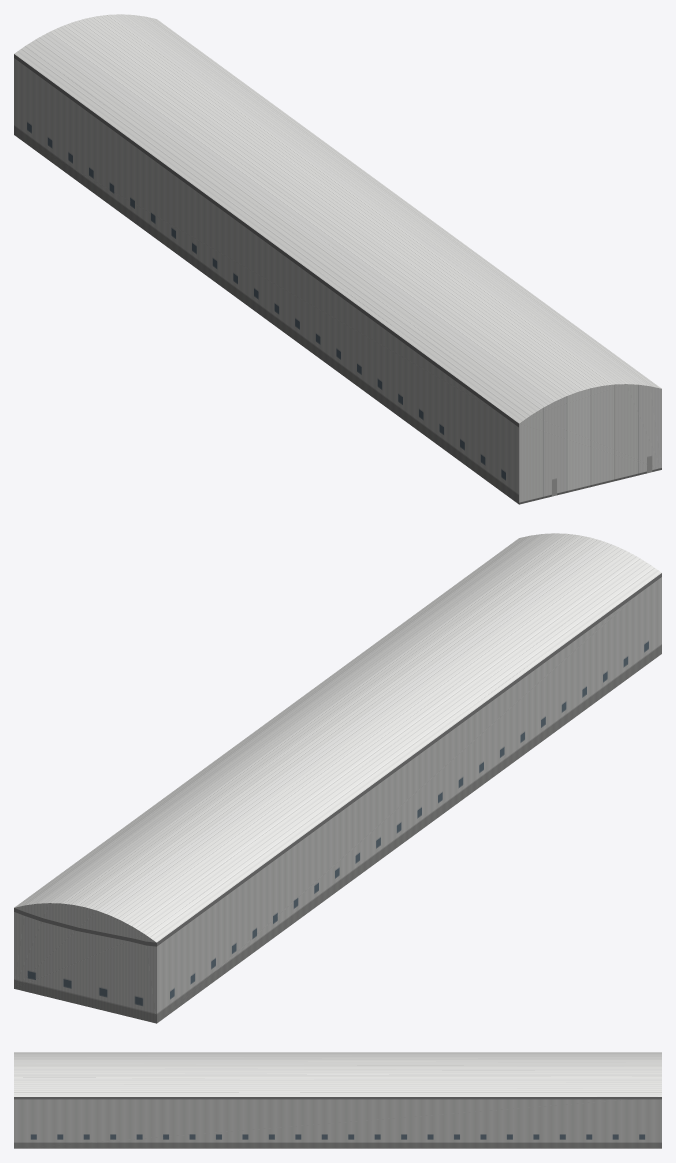
Rendered from khsv_hangar_24x147.glb.
3 views of the same model, one above another, from view 1: azimuth 30°, elevation 25°; view 2: azimuth 150°, elevation 25°; view 3: azimuth 270°, elevation 25° (orthographic). The views are drawn at different scales.
Visible parts, largest first — view 1: khsv_hangar_24x147_hangar_roof, khsv_hangar_24x147_hangar_wall, khsv_hangar_24x147_hangar_door; view 2: khsv_hangar_24x147_hangar_roof, khsv_hangar_24x147_hangar_wall; view 3: khsv_hangar_24x147_hangar_wall, khsv_hangar_24x147_hangar_roof.
Boxes of the visible parts, x1,y1,x2,y2 form: khsv_hangar_24x147_hangar_roof: (14, 14, 661, 423); khsv_hangar_24x147_hangar_wall: (14, 54, 518, 504); khsv_hangar_24x147_hangar_door: (519, 384, 661, 504); khsv_hangar_24x147_hangar_roof: (14, 533, 661, 942); khsv_hangar_24x147_hangar_wall: (14, 573, 661, 1023); khsv_hangar_24x147_hangar_wall: (14, 1097, 661, 1148); khsv_hangar_24x147_hangar_roof: (14, 1052, 661, 1096).
Bounding box in the file's own units: 24 × 15.88 × 147.
3 materials, 3 textured.
